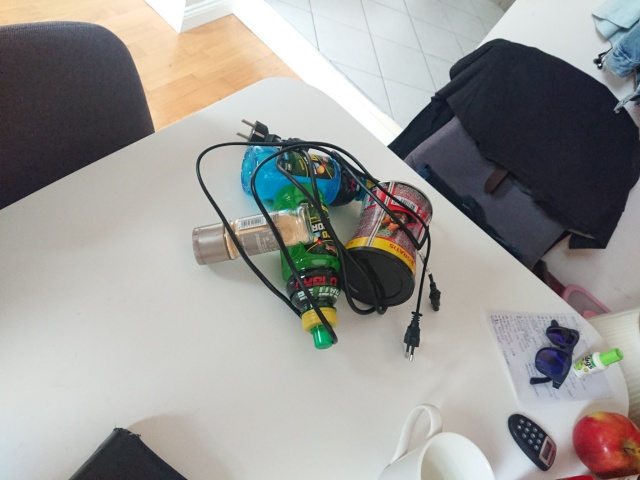Kotanyi Garlic Granules 70g: (189, 203, 315, 267)
Nescafe Classic 225g: (333, 178, 436, 309)
Vindi Iso Sport Forest Strawberries 500mL: (239, 143, 380, 209)
Vindi Iso Sport Lemon-Grapefruit 500mL: (272, 180, 344, 351)
